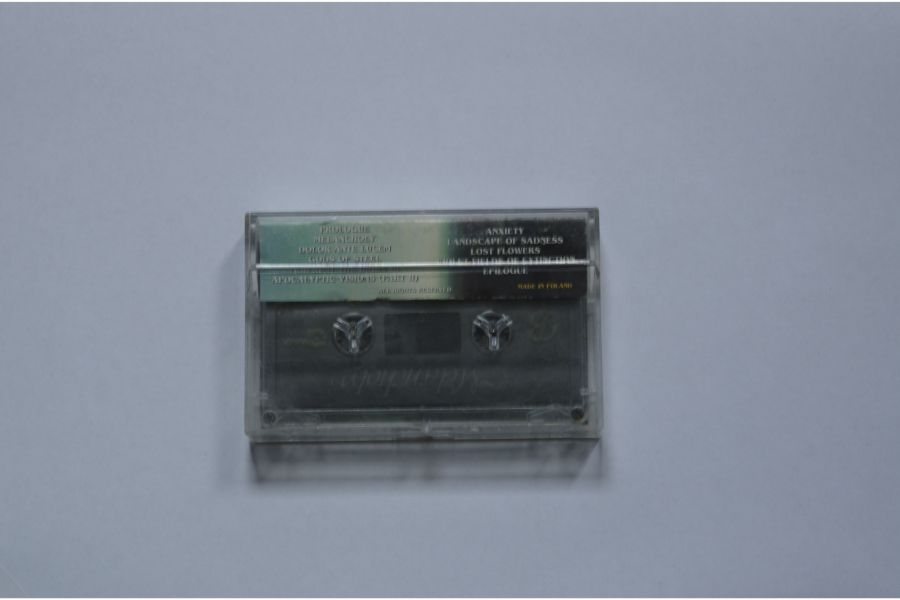album: (243, 206, 606, 439)
